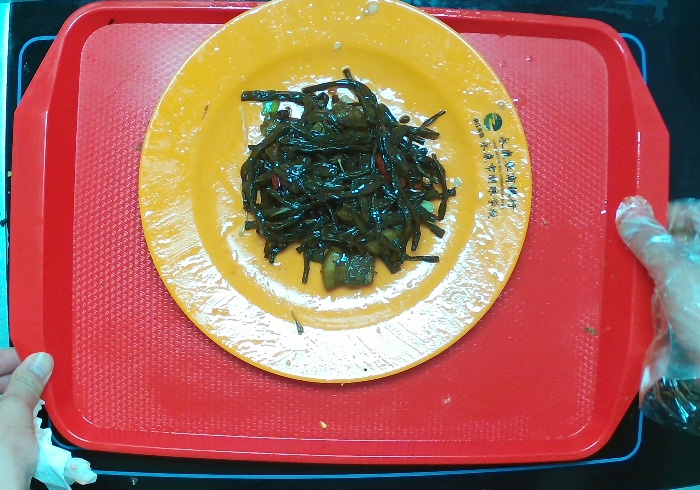YKMZ-Ju_Se_Mian_Pan: (127, 1, 540, 397)
